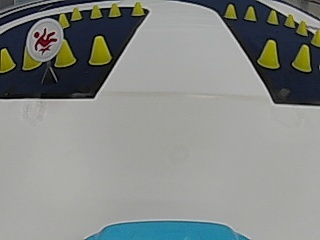cone: (89, 36, 115, 67), (257, 41, 280, 72), (292, 44, 311, 73), (54, 46, 78, 68), (0, 46, 16, 75), (23, 46, 37, 70), (224, 5, 238, 20), (59, 14, 72, 30), (130, 0, 143, 16), (296, 18, 307, 36), (109, 4, 122, 19), (71, 5, 83, 21), (267, 9, 278, 26), (284, 11, 295, 28), (246, 6, 258, 21), (89, 5, 100, 20)
tumble: (29, 24, 59, 56)
